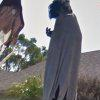Statue: (39, 1, 85, 88)
